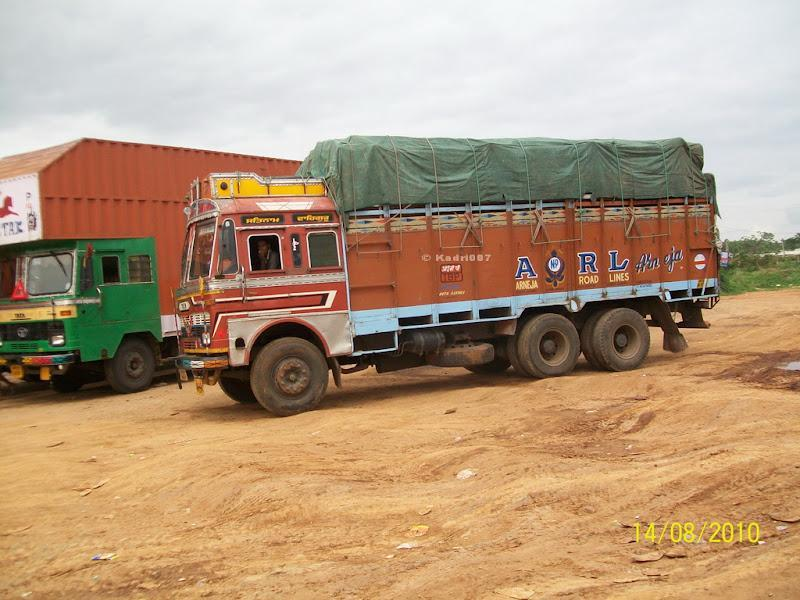truck: (187, 138, 731, 398)
